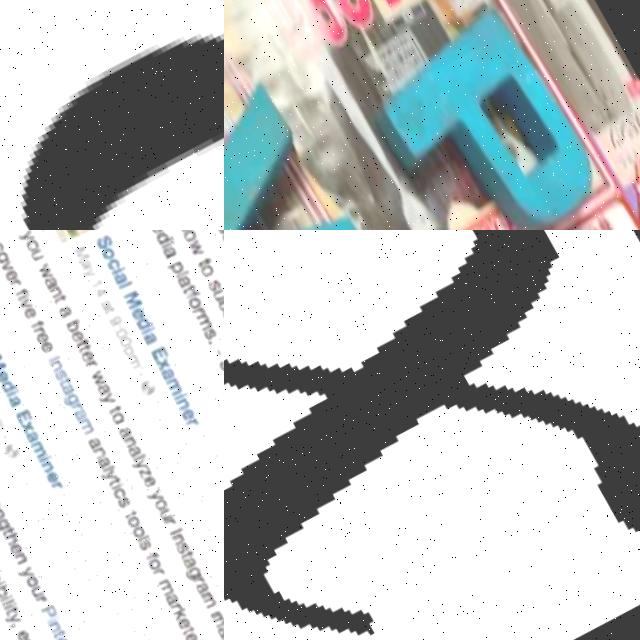0: (114, 321, 132, 338), (119, 328, 136, 345)
1: (89, 271, 106, 287)
4: (95, 280, 112, 297)
9: (109, 308, 126, 325)
P: (365, 0, 618, 230)
Q: (0, 0, 224, 230)
V: (224, 69, 383, 230)
X: (224, 230, 640, 640)
